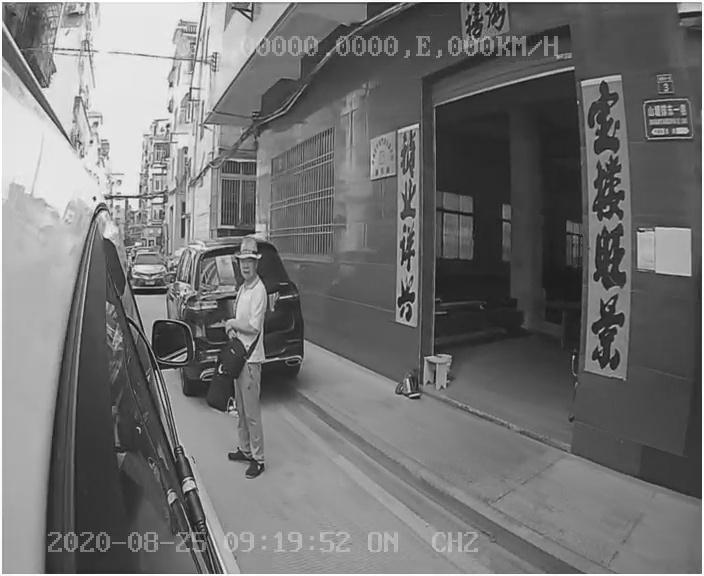person: (202, 242, 296, 482)
